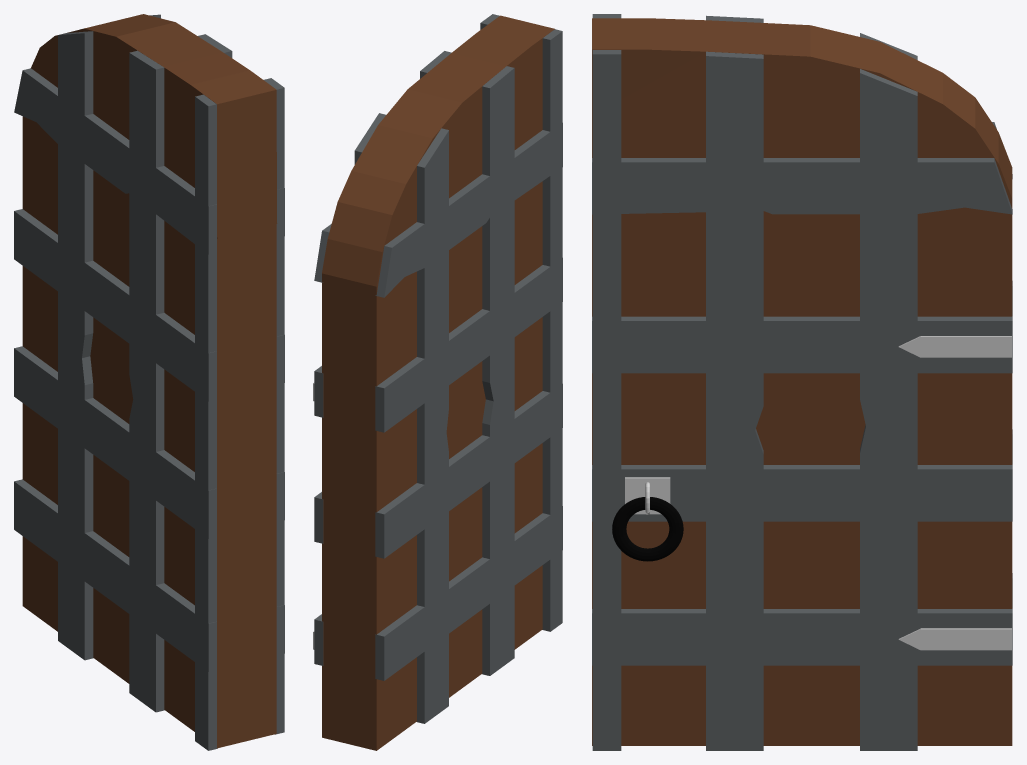
File: TürR.fbx
3 views of the same model, side by side, from view 1: azimuth 30°, elevation 25°; view 2: azimuth 150°, elevation 25°; view 3: azimuth 270°, elevation 25° (orthographic). The views are drawn at different scales.
Visible parts, largest first — view 1: Cube, Cube.014, Cube.004; view 2: Cube, Cube.014, Cube.004; view 3: Cube.004, Cube, Torus, Cube.009, Cube.010, Cube.008, Cube.014.
Part boxes in pixels (<box>): Cube: <box>22,14,277,748</box>; Cube.014: <box>14,31,217,750</box>; Cube.004: <box>149,14,284,734</box>; Cube: <box>322,15,554,750</box>; Cube.014: <box>375,29,562,723</box>; Cube.004: <box>314,14,499,665</box>; Cube.004: <box>592,50,1012,750</box>; Cube: <box>592,18,1012,745</box>; Torus: <box>612,497,683,561</box>; Cube.009: <box>898,628,1011,650</box>; Cube.010: <box>898,336,1011,357</box>; Cube.008: <box>625,477,670,514</box>; Cube.014: <box>592,14,1012,607</box>.
Size of the model in its own units: 35.84 by 247 by 135.
